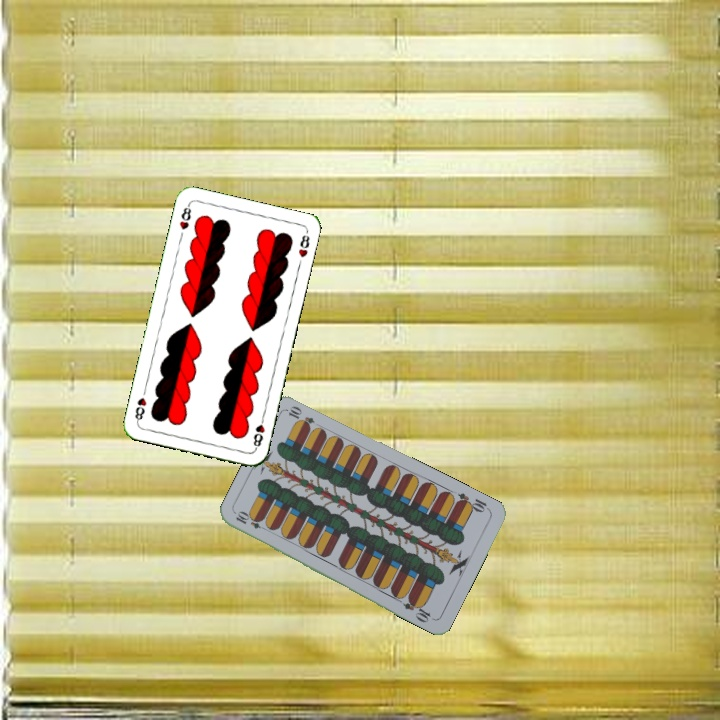E10: (452, 489, 492, 515), (232, 508, 271, 533)
H8: (249, 412, 267, 452), (175, 200, 194, 232)
